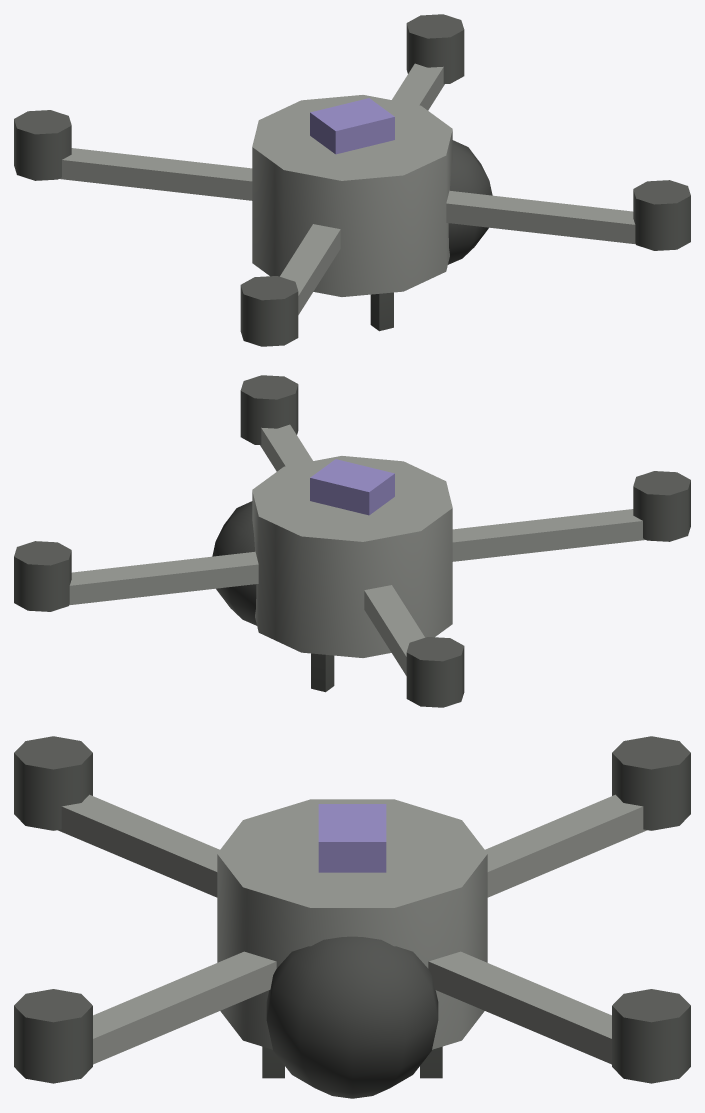
File: m_drone_450e307e.glb
The picture shows the model from 3 angles, top to bottom: view 1: azimuth 30°, elevation 25°; view 2: azimuth 150°, elevation 25°; view 3: azimuth 270°, elevation 25°; orthographic projection. The views are drawn at different scales.
Visible parts, largest first — view 1: mesh; view 2: mesh; view 3: mesh.
Boxes of the visible parts, x1=… form: mesh: x1=14, y1=14, x2=690, y2=346; mesh: x1=14, y1=375, x2=690, y2=707; mesh: x1=14, y1=736, x2=690, y2=1098.
Bounding box in the file's own units: 12.01 × 4.9 × 12.01.
